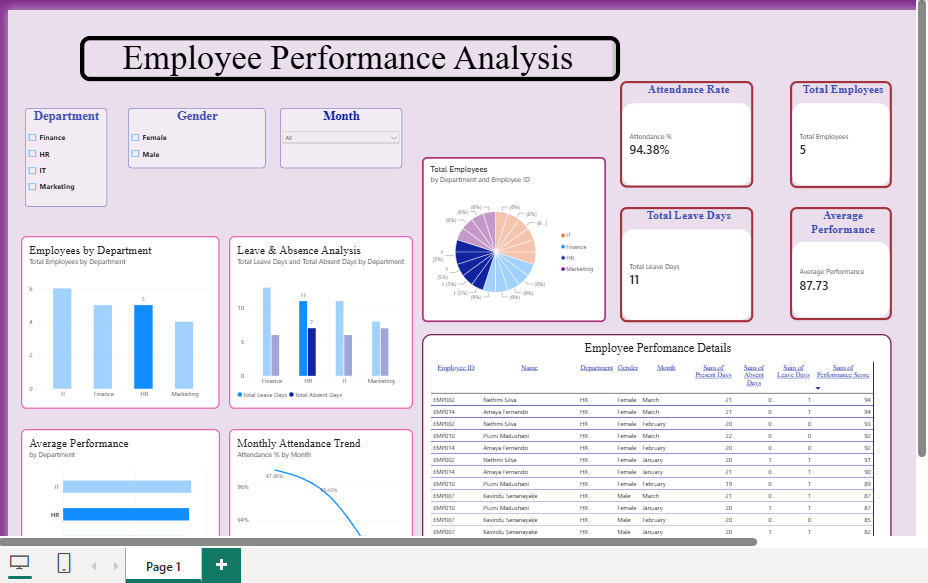

Layout of this report page (visuals, bound fields, positions):
{"tool":"powerbi","page":{"name":"Page 1","canvas":[2560,1440],"ordinal":0},"visuals":[{"type":"cardVisual","title":"Total Employees","fields":{"Data":["Employee_Data.Total Employees"]},"box":[1818.6,165.1,237.2,248.8],"z":0},{"type":"cardVisual","title":"Attendance Rate","fields":{"Data":["Employee_Data.Attendance %"]},"box":[1423.3,165.1,310,248],"z":1000},{"type":"cardVisual","title":"Average Performance","fields":{"Data":["Employee_Data.Average Performance"]},"box":[1818.6,458.1,237.2,262.8],"z":2000},{"type":"cardVisual","title":"Total Leave Days","fields":{"Data":["Employee_Data.Total Leave Days"]},"box":[1423.3,458.1,310,268],"z":3000},{"type":"clusteredBarChart","fields":{"Category":["Employee_Data.Department"],"Y":["Employee_Data.Average Performance"]},"box":[30.2,974.4,462.8,416.3],"z":4000},{"type":"lineChart","title":"Monthly Attendance Trend","fields":{"Category":["Employee_Data.Month"],"Y":["Employee_Data.Attendance %"]},"box":[514,974.4,428,416],"z":5000},{"type":"clusteredColumnChart","title":"Employees by Department","fields":{"Category":["Employee_Data.Department"],"Y":["Employee_Data.Total Employees"]},"box":[30.2,525.6,462,402],"z":6000},{"type":"clusteredColumnChart","title":"Leave & Absence Analysis","fields":{"Category":["Employee_Data.Department"],"Y":["Employee_Data.Total Leave Days","Employee_Data.Total Absent Days"]},"box":[514,525.6,428,402],"z":7000},{"type":"tableEx","title":"Employee Perfomance Details","fields":{"Values":["Employee_Data.Employee ID","Employee_Data.Name","Employee_Data.Department","Employee_Data.Gender","Employee_Data.Month","Sum(Employee_Data.Present Days)","Sum(Employee_Data.Absent Days)","Sum(Employee_Data.Leave Days)","Sum(Employee_Data.Performance Score)"]},"box":[962,754,1092,638],"z":8000},{"type":"slicer","title":"Department","fields":{"Values":["Employee_Data.Department"]},"box":[40,228,190.7,229.7],"z":9000},{"type":"slicer","title":"Gender","fields":{"Values":["Employee_Data.Gender"]},"box":[278,228,320,140],"z":10000},{"type":"slicer","title":"Month","fields":{"Values":["Employee_Data.Month"]},"box":[632,228,284,140],"z":11000},{"type":"textbox","box":[167.4,60.5,1255.8,104.7],"z":11001},{"type":"pieChart","fields":{"Category":["Employee_Data.Department"],"Series":["Employee_Data.Employee ID"],"Y":["Employee_Data.Total Employees"]},"box":[962.8,341.9,427.9,383.7],"z":11002}]}

Visuals, with their boxes on the page's 2560x1440 design canvas (x1, y1, x2, y2). These are canvas units, not pixel positions in the 928x583 screenshot, which may show the page scaled, cropped or inside an application window:
"Total Employees" cardVisual: box=[1819, 165, 2056, 414]
"Attendance Rate" cardVisual: box=[1423, 165, 1733, 413]
"Average Performance" cardVisual: box=[1819, 458, 2056, 721]
"Total Leave Days" cardVisual: box=[1423, 458, 1733, 726]
clusteredBarChart - Employee_Data.Department x Employee_Data.Average Performance: box=[30, 974, 493, 1391]
"Monthly Attendance Trend" lineChart: box=[514, 974, 942, 1390]
"Employees by Department" clusteredColumnChart: box=[30, 526, 492, 928]
"Leave & Absence Analysis" clusteredColumnChart: box=[514, 526, 942, 928]
"Employee Perfomance Details" tableEx: box=[962, 754, 2054, 1392]
"Department" slicer: box=[40, 228, 231, 458]
"Gender" slicer: box=[278, 228, 598, 368]
"Month" slicer: box=[632, 228, 916, 368]
textbox: box=[167, 60, 1423, 165]
pieChart - Employee_Data.Department x Employee_Data.Employee ID: box=[963, 342, 1391, 726]
